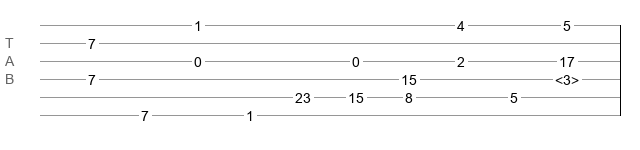0: (194, 54, 202, 64), (352, 54, 360, 64)
1: (194, 18, 202, 28), (246, 108, 254, 118)
15: (348, 90, 364, 100), (401, 72, 417, 82)
17: (559, 54, 575, 64)
2: (457, 54, 465, 64)
23: (295, 90, 311, 100)
4: (457, 18, 465, 28)
5: (510, 90, 518, 100), (563, 18, 571, 28)
7: (88, 36, 96, 46), (88, 72, 96, 82), (141, 108, 149, 118)
8: (405, 90, 413, 100)
harmonic: (555, 72, 579, 82)
